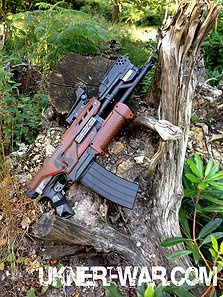ak47: (29, 48, 157, 211)
